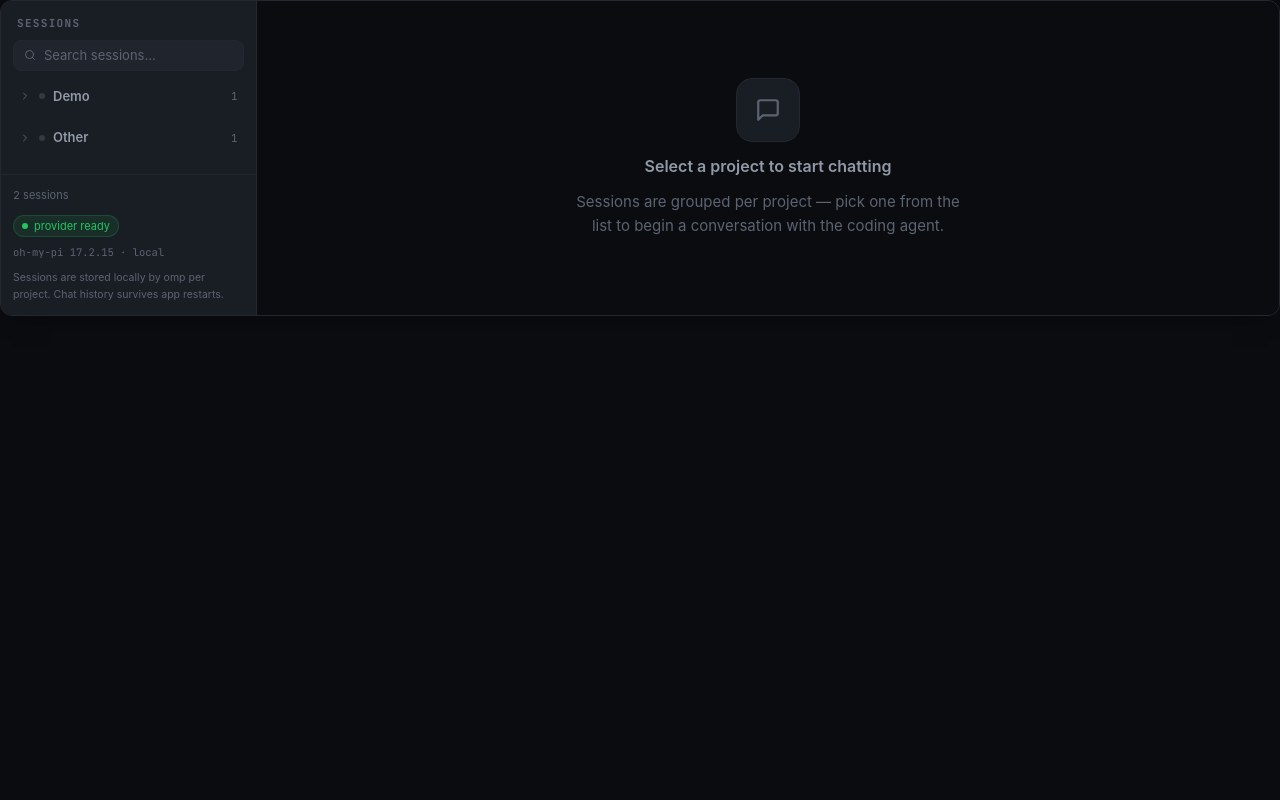
Test: AgentView › searches sessions in unopened projects and opens the matching project
Expected: the text "2 sessions" is shown, [13,188,68,202]
Type "checkout" into the field named "Search projects and sessions" at (138, 55), box [44,46,233,64]
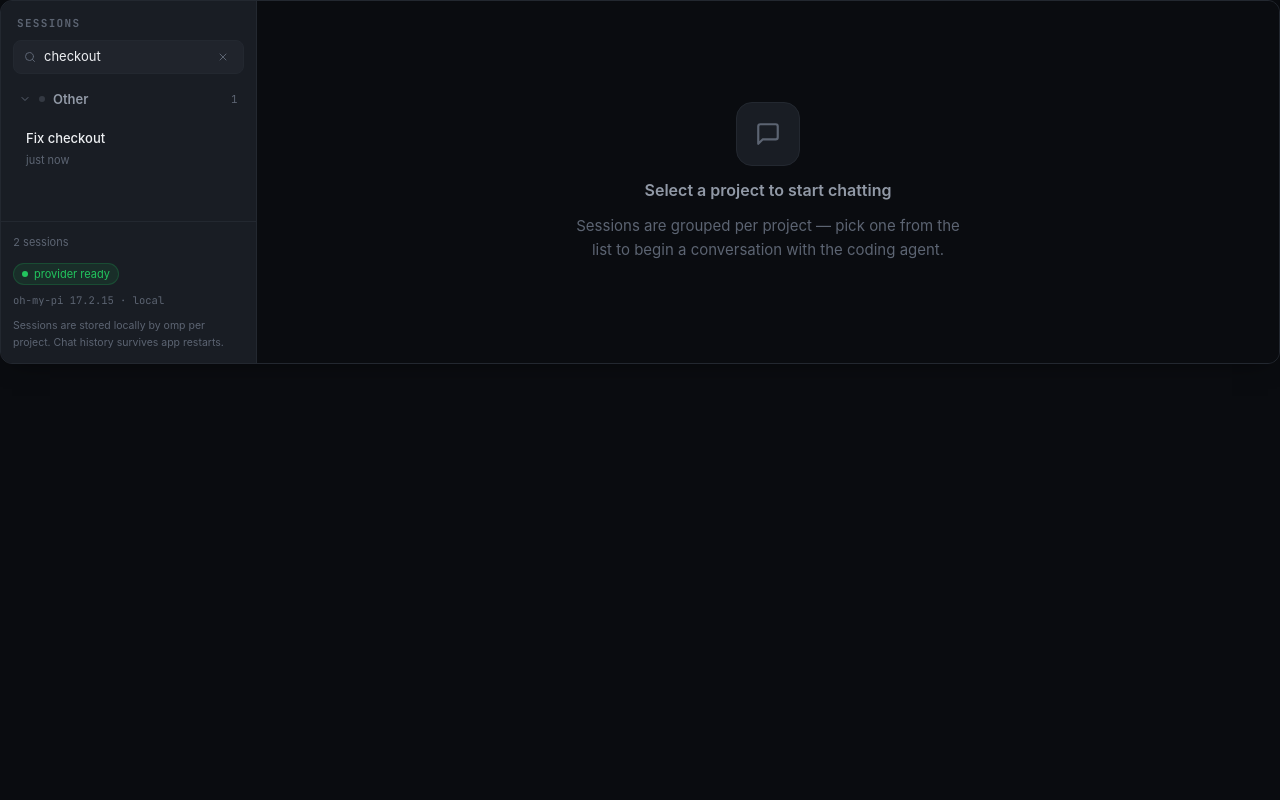
Click the button "Fix checkout" at (128, 137), box [14,122,243,152]
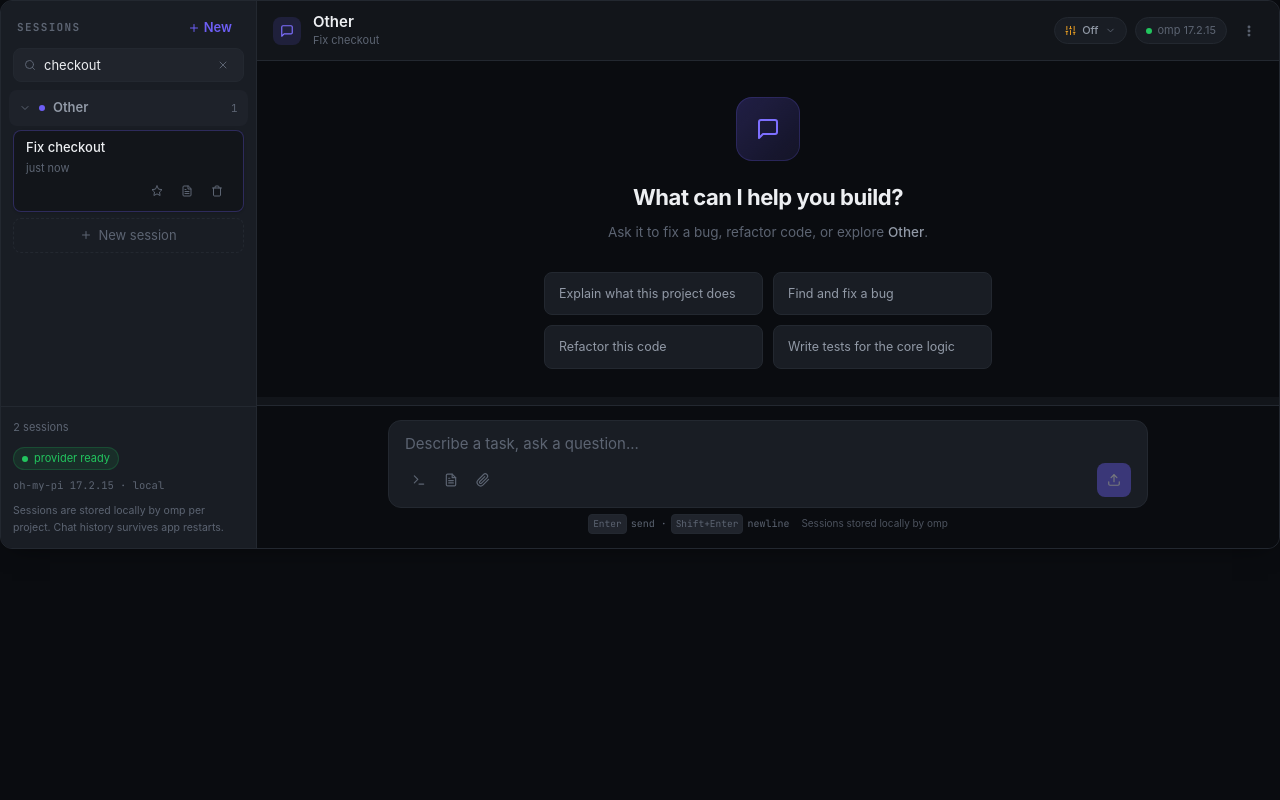
Replace the text in the field named "Search projects and sessions" with "no-such-session" at (124, 65), box [44,56,205,74]
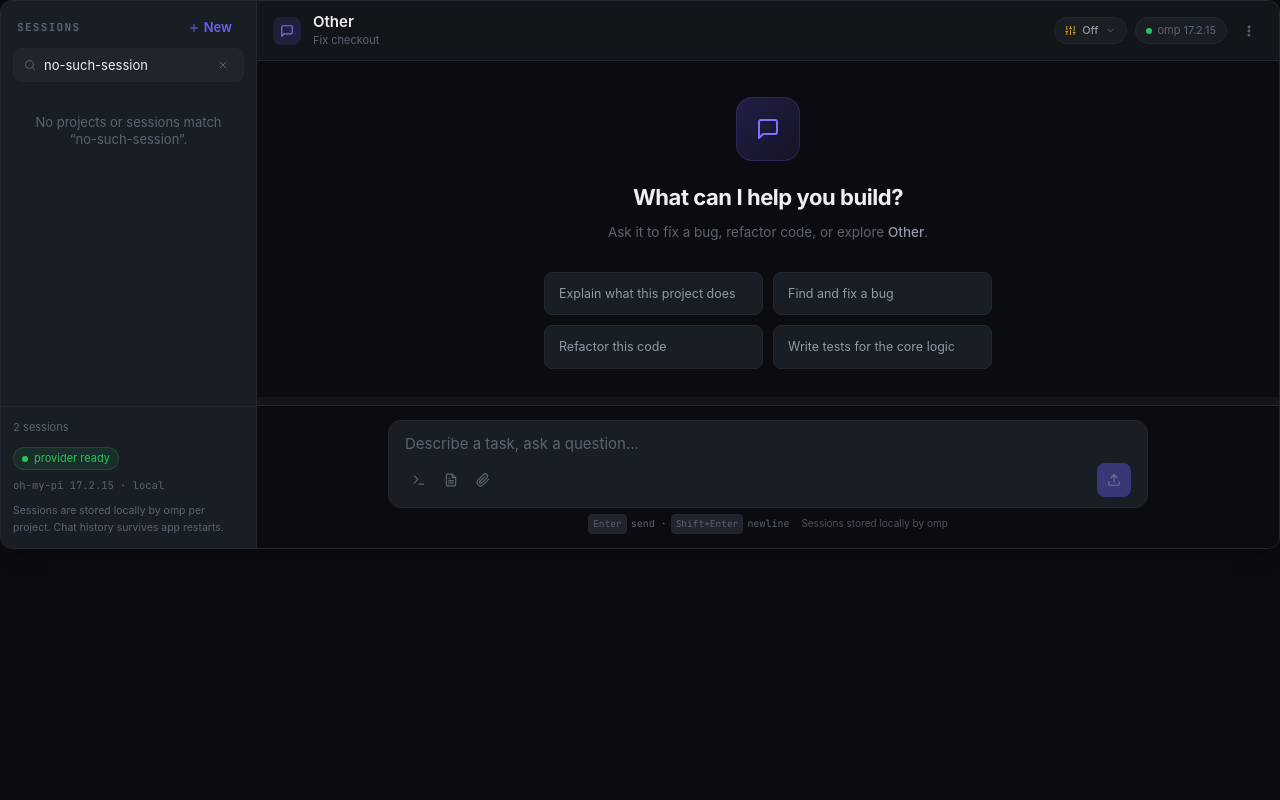
Now the text "No projects or sessions match “no-such-session”." is shown, box [36,114,222,147]
